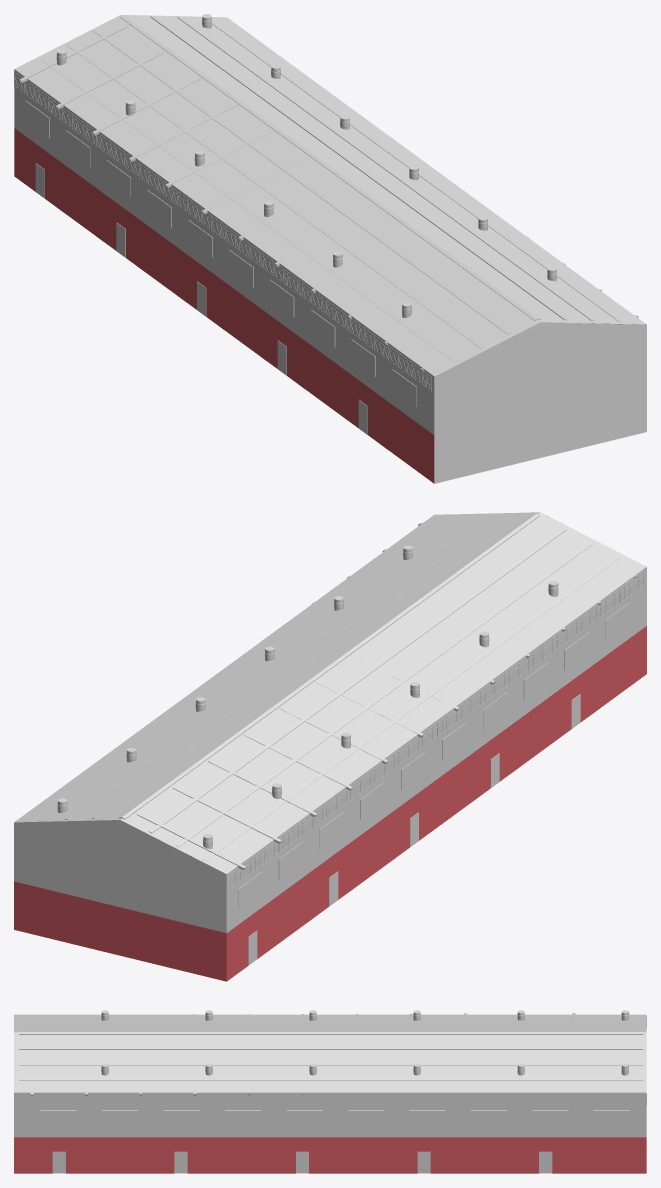
The model's file is Sim_Factory.fbx.
3 views of the same model, one above another, from view 1: azimuth 30°, elevation 25°; view 2: azimuth 150°, elevation 25°; view 3: azimuth 270°, elevation 25° (orthographic). The views are drawn at different scales.
Visible parts, largest first — view 1: Walls, backwall, Roof grid, windows, Roof Support, pillars, Doors.001; view 2: Walls, Roof grid, windows, Roof Support, pillars, Doors.001; view 3: Walls, Roof grid, windows, Doors, pillars.
Part boxes in pixels (x1=…): Walls: x1=14, y1=15, x2=646, y2=483; backwall: x1=434, y1=322, x2=646, y2=483; Roof grid: x1=19, y1=15, x2=638, y2=371; windows: x1=25, y1=100, x2=609, y2=406; Roof Support: x1=14, y1=71, x2=638, y2=391; pillars: x1=56, y1=14, x2=556, y2=317; Doors.001: x1=35, y1=163, x2=367, y2=434; Walls: x1=14, y1=512, x2=646, y2=981; Roof grid: x1=38, y1=513, x2=636, y2=870; windows: x1=238, y1=603, x2=629, y2=909; Roof Support: x1=14, y1=571, x2=643, y2=891; pillars: x1=57, y1=545, x2=558, y2=849; Doors.001: x1=248, y1=694, x2=580, y2=965; Walls: x1=14, y1=1014, x2=646, y2=1173; Roof grid: x1=19, y1=1013, x2=643, y2=1095; windows: x1=40, y1=1110, x2=629, y2=1125; Doors: x1=52, y1=1151, x2=552, y2=1173; pillars: x1=101, y1=1010, x2=628, y2=1075.
Bounding box in the file's own units: 1469 × 875 × 4819.
